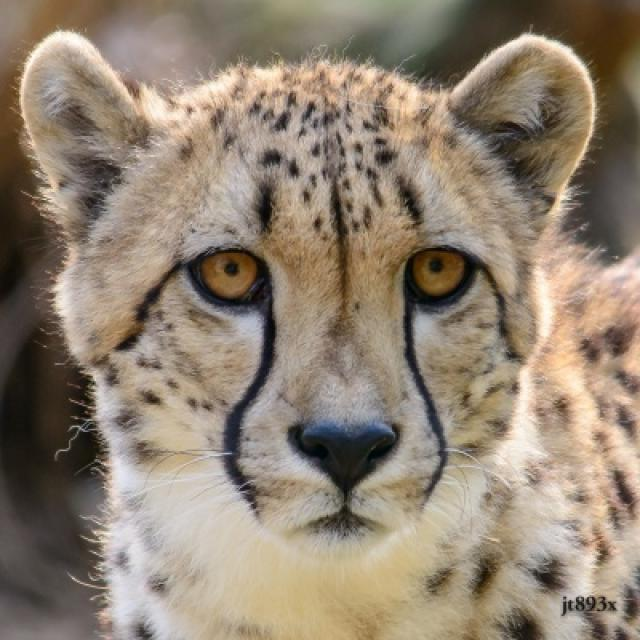Cheetah: (19, 30, 638, 638)
